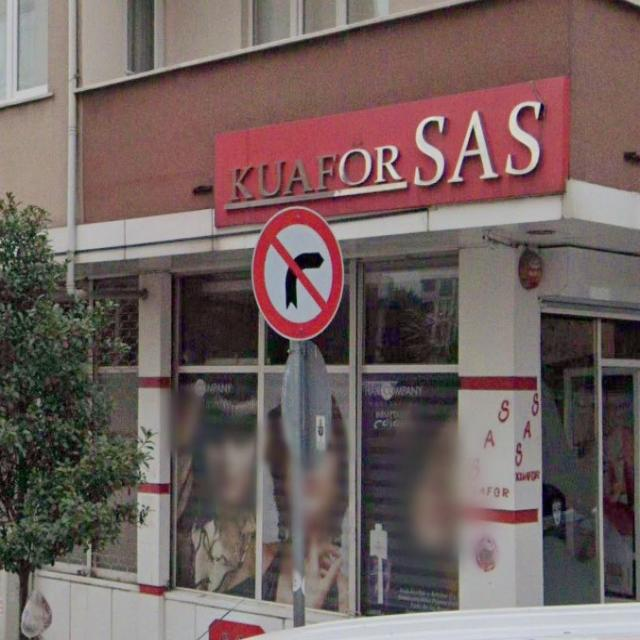sagadonulmez: (254, 207, 344, 341)
